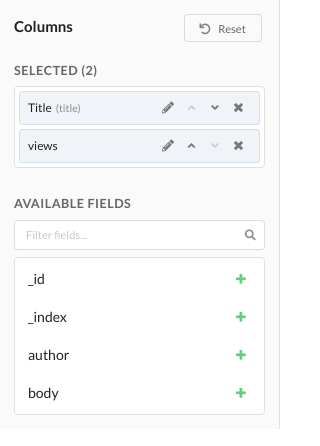
Scenario: ColumnsSidebar › renaming › abandons the rename on Escape
Click the button named "Rename column title": (170,108) [159,99,180,118]
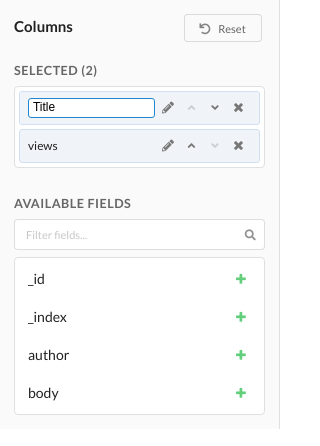
Replace the text in the field named "New name for column title" with "Headline": (91,108) [28,98,155,118]
Then press Escape
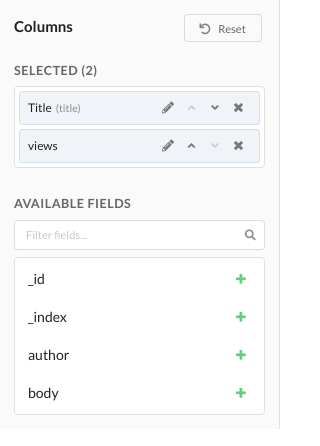
Now the text "Title" is shown, box [28,98,52,118]
